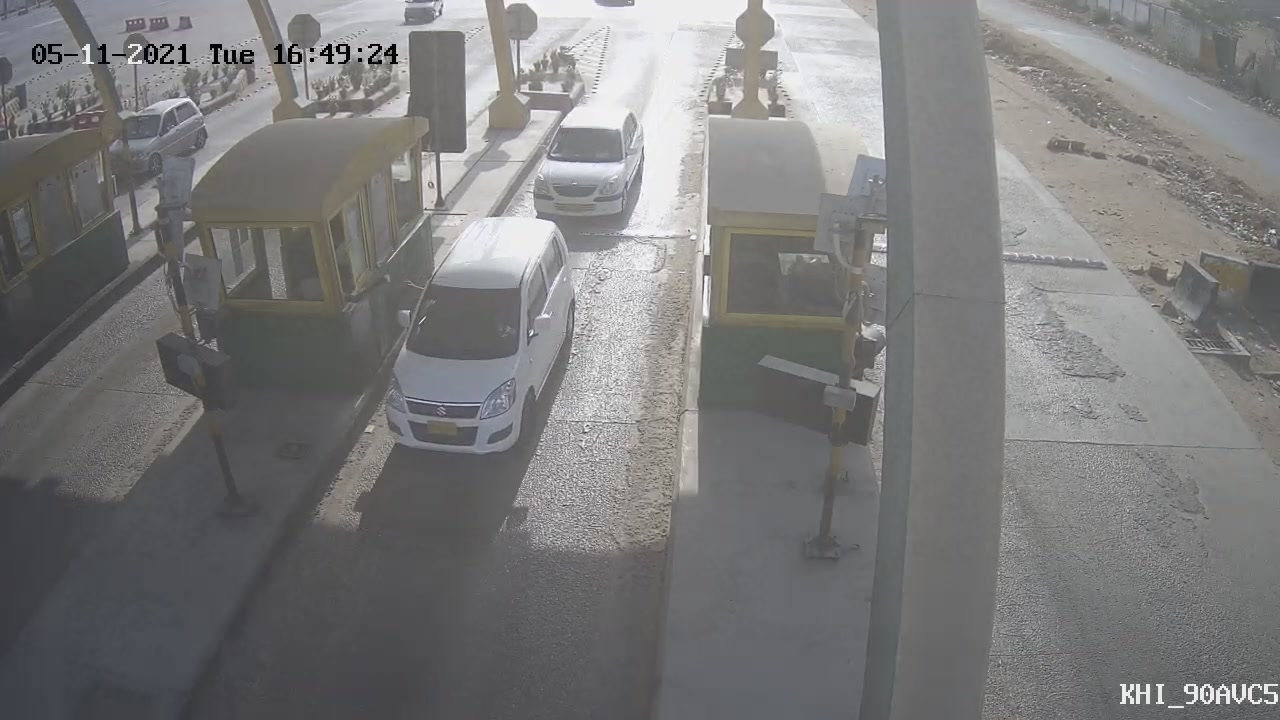F1: (360, 199, 599, 477), (518, 91, 660, 236)
